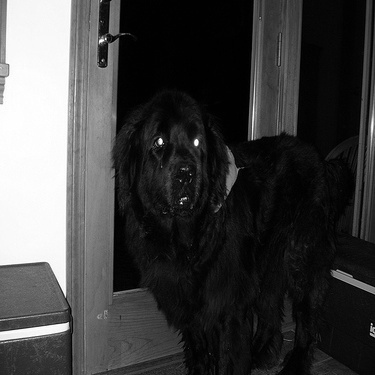dog: (78, 82, 363, 370)
